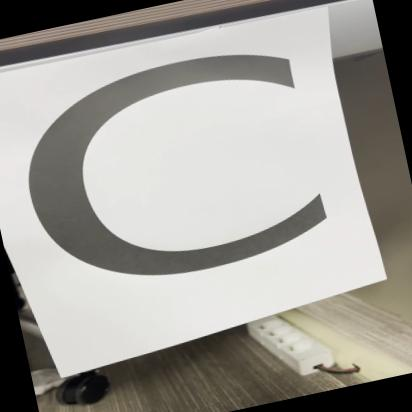seat: (0, 0, 399, 376)
